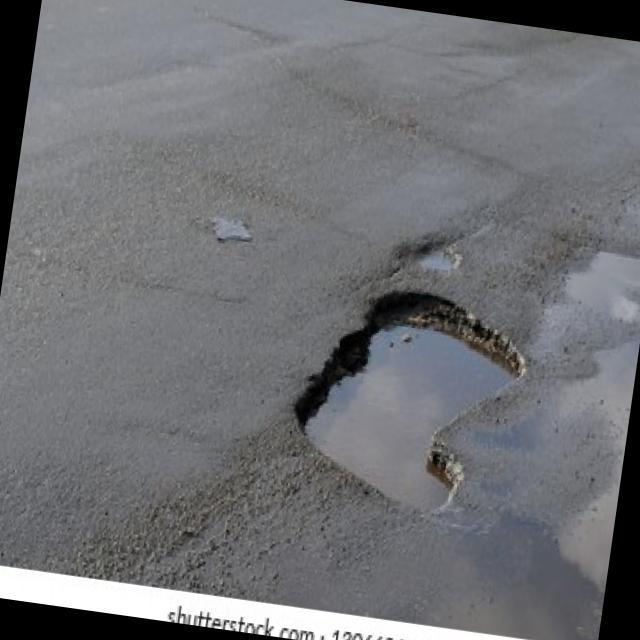Pothole: (279, 276, 534, 529), (412, 238, 462, 274)
